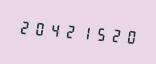five: (92, 21, 106, 46)
four: (47, 17, 61, 42)
one: (77, 19, 91, 45)
two: (17, 14, 31, 39), (62, 18, 76, 43), (107, 22, 121, 47)
zero: (122, 23, 136, 49), (32, 16, 46, 41)
